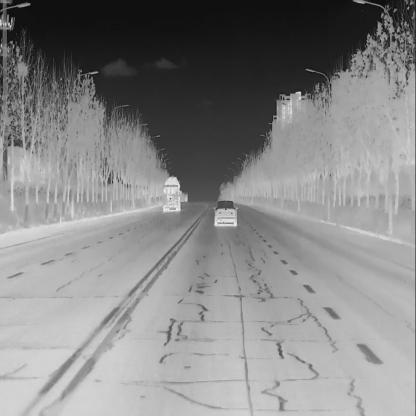car: (213, 198, 239, 228)
truck: (162, 174, 181, 213)
